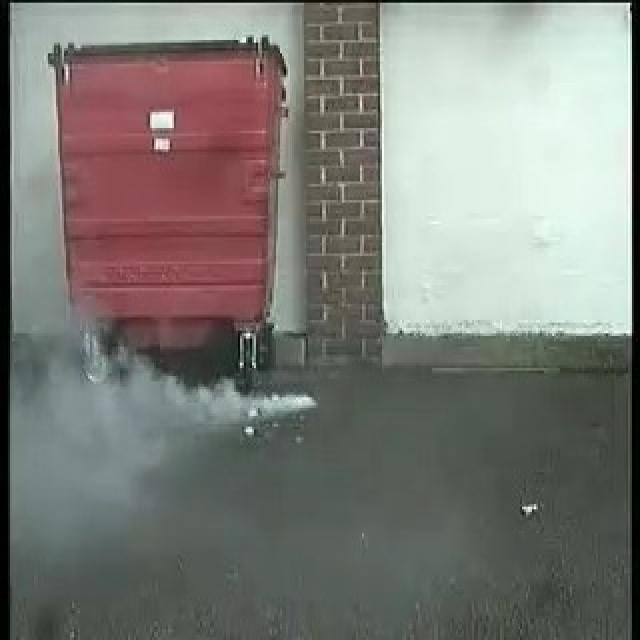smoke: (65, 328, 324, 443)
